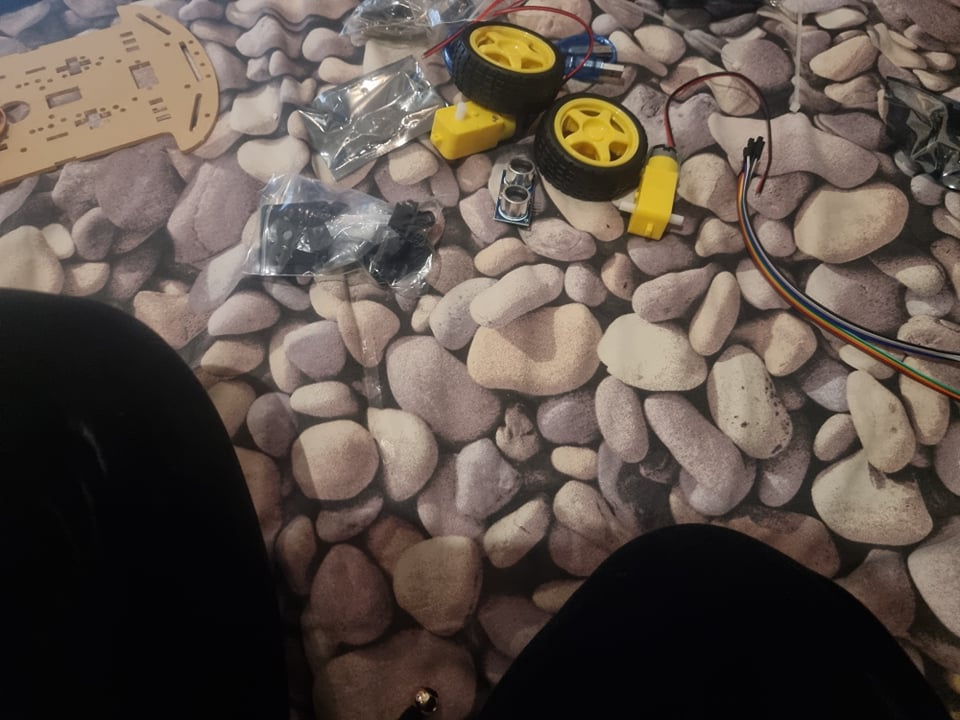SENSOR: (495, 158, 538, 228)
